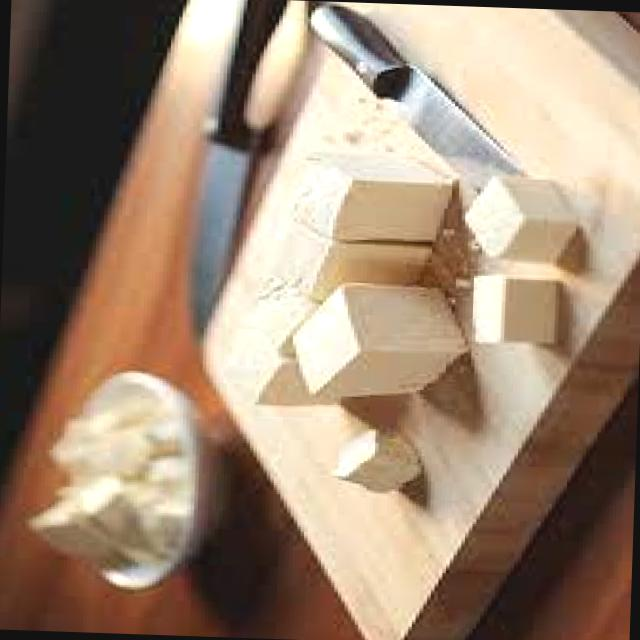tofu: (210, 136, 480, 419)
